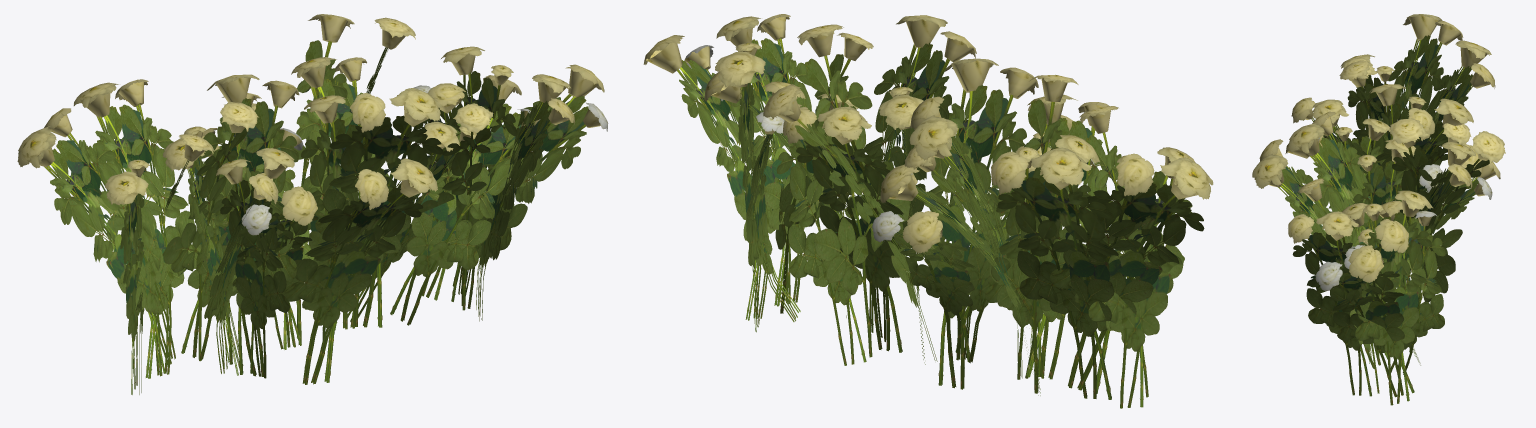
File: NaturePlant04_2.FBX
The picture shows the model from 3 angles, left to right: view 1: azimuth 30°, elevation 25°; view 2: azimuth 150°, elevation 25°; view 3: azimuth 270°, elevation 25°; orthographic projection. The views are drawn at different scales.
Parts seen in each view (by area): view 1: NaturePlant04_2; view 2: NaturePlant04_2; view 3: NaturePlant04_2.
Boxes of the visible parts, left/top/right/bottom form: NaturePlant04_2: left=17, top=14, right=608, bottom=394; NaturePlant04_2: left=643, top=14, right=1213, bottom=408; NaturePlant04_2: left=1252, top=14, right=1505, bottom=405.
Size of what is drawn, in the model's own units: 2.13 by 1.22 by 1.07.
